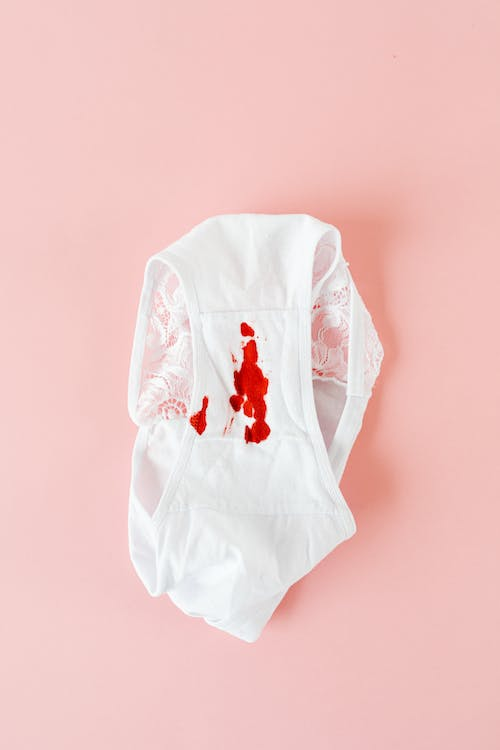blood: (187, 318, 275, 447)
